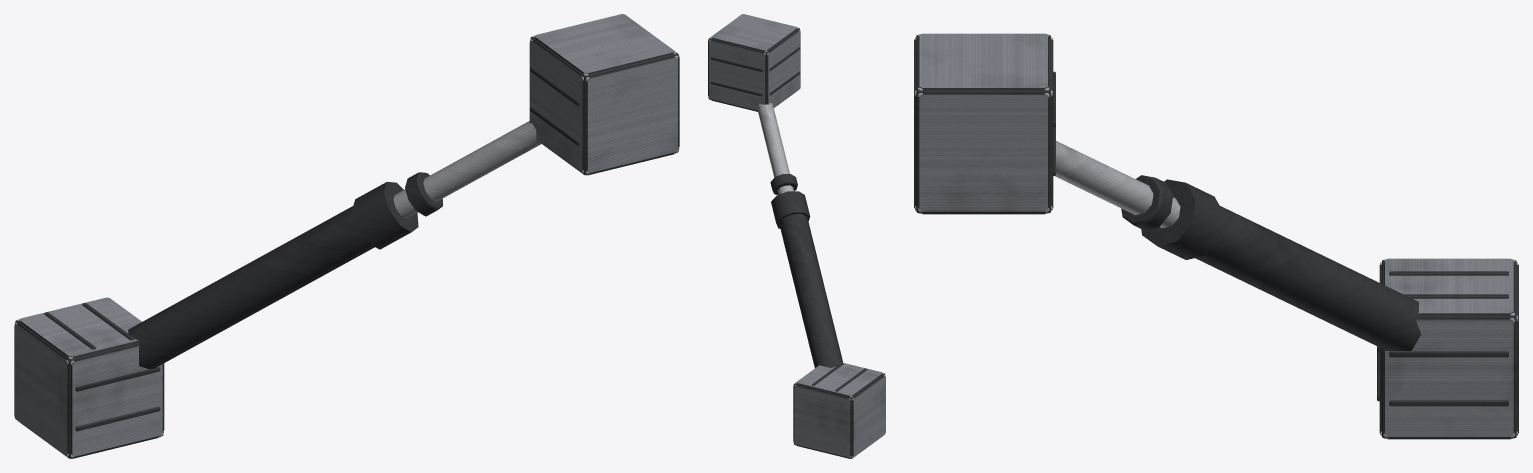
The model's file is R4C_ROD_DIAG_3D.glb.
3 views of the same model, side by side, from view 1: azimuth 30°, elevation 25°; view 2: azimuth 150°, elevation 25°; view 3: azimuth 270°, elevation 25° (orthographic). The views are drawn at different scales.
Parts seen in each view (by area): view 1: R4C_ROD_DIAG_3D; view 2: R4C_ROD_DIAG_3D; view 3: R4C_ROD_DIAG_3D.
Part boxes in pixels (<box>): R4C_ROD_DIAG_3D: <box>14,14,679,458</box>; R4C_ROD_DIAG_3D: <box>708,14,885,458</box>; R4C_ROD_DIAG_3D: <box>914,33,1518,439</box>.
Size of the model in its own units: 1.62 by 1.62 by 1.62.
4 materials, 4 textured.
